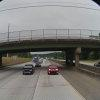Bridge: (4, 15, 95, 53)
